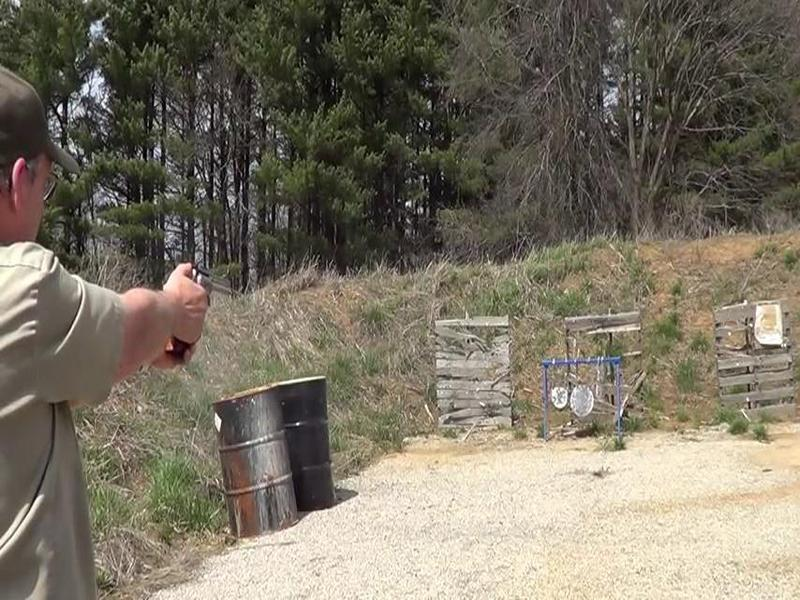Revolver: (146, 258, 237, 321)
